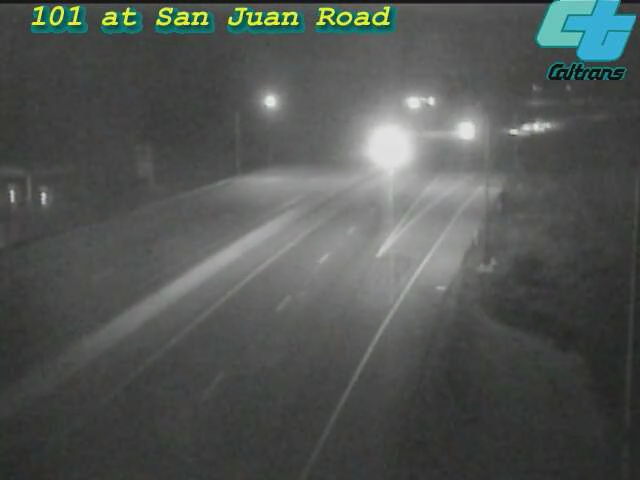vehicle: (361, 120, 411, 170), (439, 106, 489, 156), (519, 97, 569, 147), (501, 100, 551, 150), (487, 106, 537, 156)
